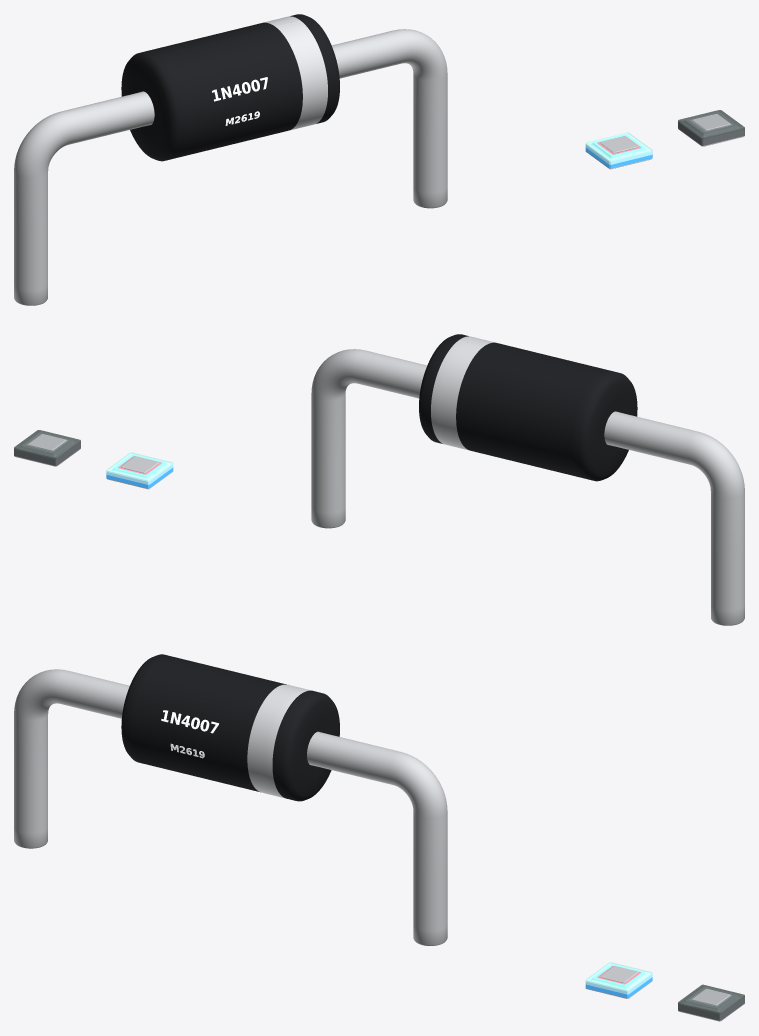
Rendered from Diodo_1N4007_y_Nucleo_PN.glb.
The picture shows the model from 3 angles, top to bottom: view 1: azimuth 30°, elevation 25°; view 2: azimuth 150°, elevation 25°; view 3: azimuth 330°, elevation 25°; orthographic projection.
Parts seen in each view (by area): view 1: 06_Capsula_Epoxi_DO41_Frontal, 01A_Terminal_Anodo_Izq_Cobre_Estanado, 01B_Terminal_Catodo_Der_Cobre_Estanado, 05_Capsula_Epoxi_DO41_Posterior, 06_Micro_Pasivacion_SiO2_y_Vidrio_GPP, 06R_Micro_Real_Vidrio_GPP_y_SiO2, 07_Marcado_Laser_1N4007, 04_Micro_Zona_Deriva_NMinus_1000V_105um, 04R_Micro_Real_Silicio_Deriva_Mesa; view 2: 05_Capsula_Epoxi_DO41_Posterior, 01A_Terminal_Anodo_Izq_Cobre_Estanado, 01B_Terminal_Catodo_Der_Cobre_Estanado, 06_Capsula_Epoxi_DO41_Frontal, 06_Micro_Pasivacion_SiO2_y_Vidrio_GPP, 06R_Micro_Real_Vidrio_GPP_y_SiO2, 04_Micro_Zona_Deriva_NMinus_1000V_105um, 04R_Micro_Real_Silicio_Deriva_Mesa; view 3: 06_Capsula_Epoxi_DO41_Frontal, 01B_Terminal_Catodo_Der_Cobre_Estanado, 01A_Terminal_Anodo_Izq_Cobre_Estanado, 05_Capsula_Epoxi_DO41_Posterior, 06R_Micro_Real_Vidrio_GPP_y_SiO2, 06_Micro_Pasivacion_SiO2_y_Vidrio_GPP, 07_Marcado_Laser_1N4007.
Boxes of the visible parts, left/top/right/bottom form: 06_Capsula_Epoxi_DO41_Frontal: left=145, top=18, right=339, bottom=161; 01A_Terminal_Anodo_Izq_Cobre_Estanado: left=14, top=91, right=154, bottom=305; 01B_Terminal_Catodo_Der_Cobre_Estanado: left=331, top=29, right=447, bottom=208; 05_Capsula_Epoxi_DO41_Posterior: left=121, top=14, right=312, bottom=155; 06_Micro_Pasivacion_SiO2_y_Vidrio_GPP: left=585, top=132, right=652, bottom=161; 06R_Micro_Real_Vidrio_GPP_y_SiO2: left=678, top=110, right=744, bottom=139; 07_Marcado_Laser_1N4007: left=212, top=77, right=267, bottom=125; 04_Micro_Zona_Deriva_NMinus_1000V_105um: left=585, top=134, right=652, bottom=164; 04R_Micro_Real_Silicio_Deriva_Mesa: left=678, top=111, right=744, bottom=142; 05_Capsula_Epoxi_DO41_Posterior: left=419, top=338, right=613, bottom=481; 01A_Terminal_Anodo_Izq_Cobre_Estanado: left=604, top=411, right=744, bottom=625; 01B_Terminal_Catodo_Der_Cobre_Estanado: left=311, top=349, right=427, bottom=528; 06_Capsula_Epoxi_DO41_Frontal: left=446, top=334, right=637, bottom=475; 06_Micro_Pasivacion_SiO2_y_Vidrio_GPP: left=106, top=452, right=173, bottom=481; 06R_Micro_Real_Vidrio_GPP_y_SiO2: left=14, top=430, right=80, bottom=459; 04_Micro_Zona_Deriva_NMinus_1000V_105um: left=106, top=454, right=173, bottom=484; 04R_Micro_Real_Silicio_Deriva_Mesa: left=14, top=431, right=80, bottom=462; 06_Capsula_Epoxi_DO41_Frontal: left=121, top=658, right=315, bottom=801; 01B_Terminal_Catodo_Der_Cobre_Estanado: left=307, top=731, right=447, bottom=945; 01A_Terminal_Anodo_Izq_Cobre_Estanado: left=14, top=669, right=129, bottom=848; 05_Capsula_Epoxi_DO41_Posterior: left=148, top=654, right=339, bottom=795; 06R_Micro_Real_Vidrio_GPP_y_SiO2: left=678, top=984, right=744, bottom=1014; 06_Micro_Pasivacion_SiO2_y_Vidrio_GPP: left=585, top=962, right=652, bottom=991; 07_Marcado_Laser_1N4007: left=161, top=710, right=218, bottom=758.
Bounding box in the file's own units: 19.38 × 5.5 × 2.61.
